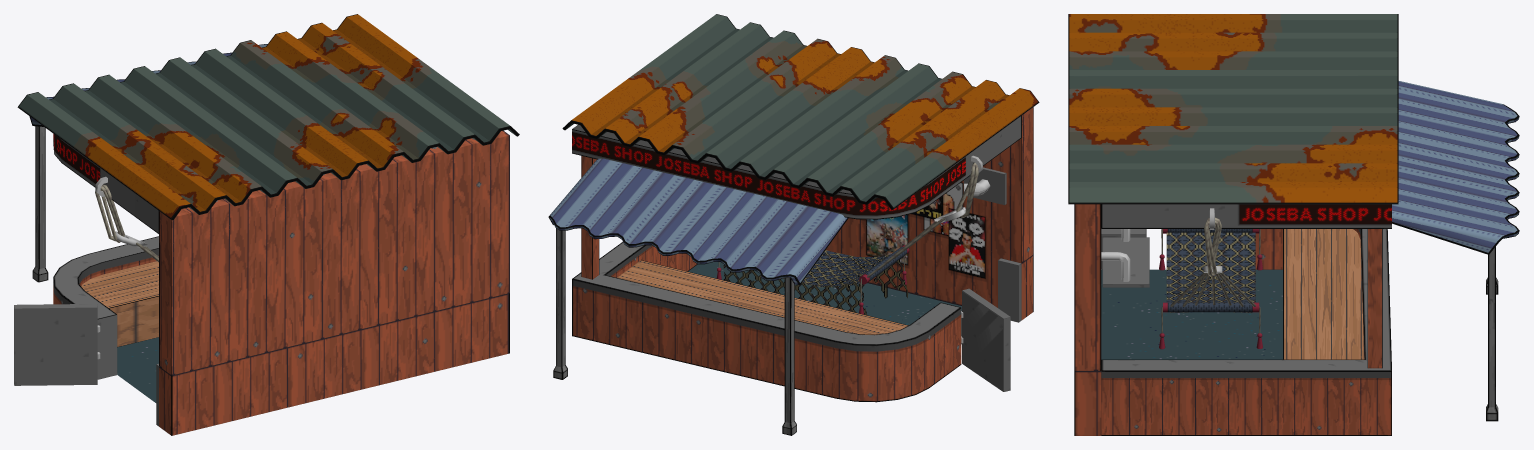
File: Building_Chiringuito_Joseba (1).fbx
The picture shows the model from 3 angles, left to right: view 1: azimuth 30°, elevation 25°; view 2: azimuth 150°, elevation 25°; view 3: azimuth 270°, elevation 25°; orthographic projection. The views are drawn at different scales.
Visible parts, largest first — view 1: Plane.002; view 2: Plane.002; view 3: Plane.002.
Part boxes in pixels (bbox=[...]): Plane.002: bbox=[14, 14, 519, 435]; Plane.002: bbox=[548, 14, 1039, 435]; Plane.002: bbox=[1068, 14, 1519, 435].
Bounding box in the file's own units: 7.26 × 3.84 × 6.34.
